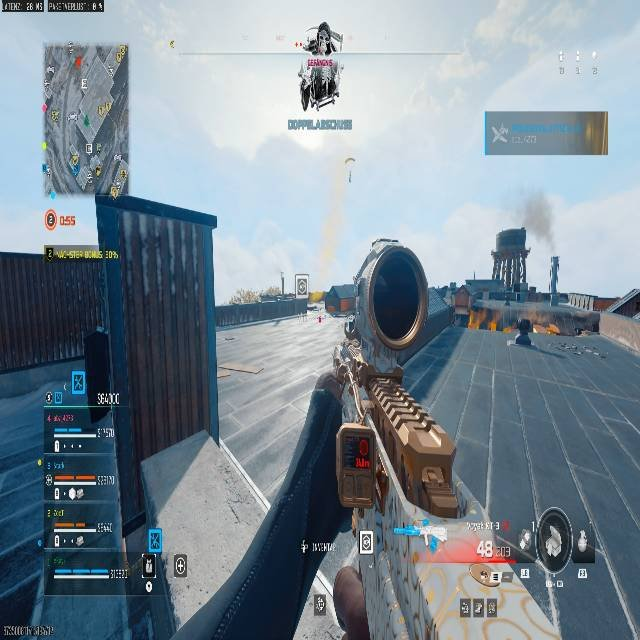player: (508, 314, 535, 350)
